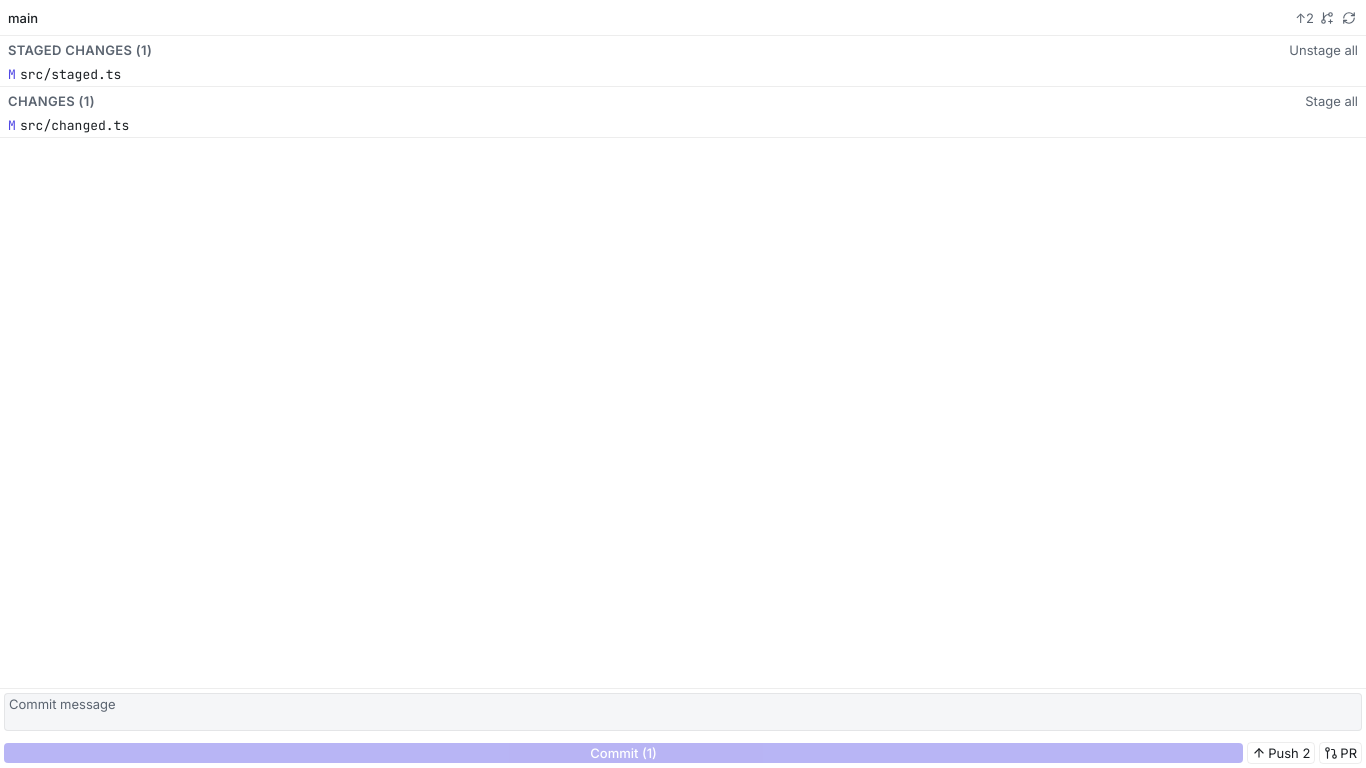
Test: SourceControlPanel (US-33.1) › opens a per-file diff preview on click (scoped fetch)
Click the button "src/staged.ts": click(71, 74) [20,67,1336,83]
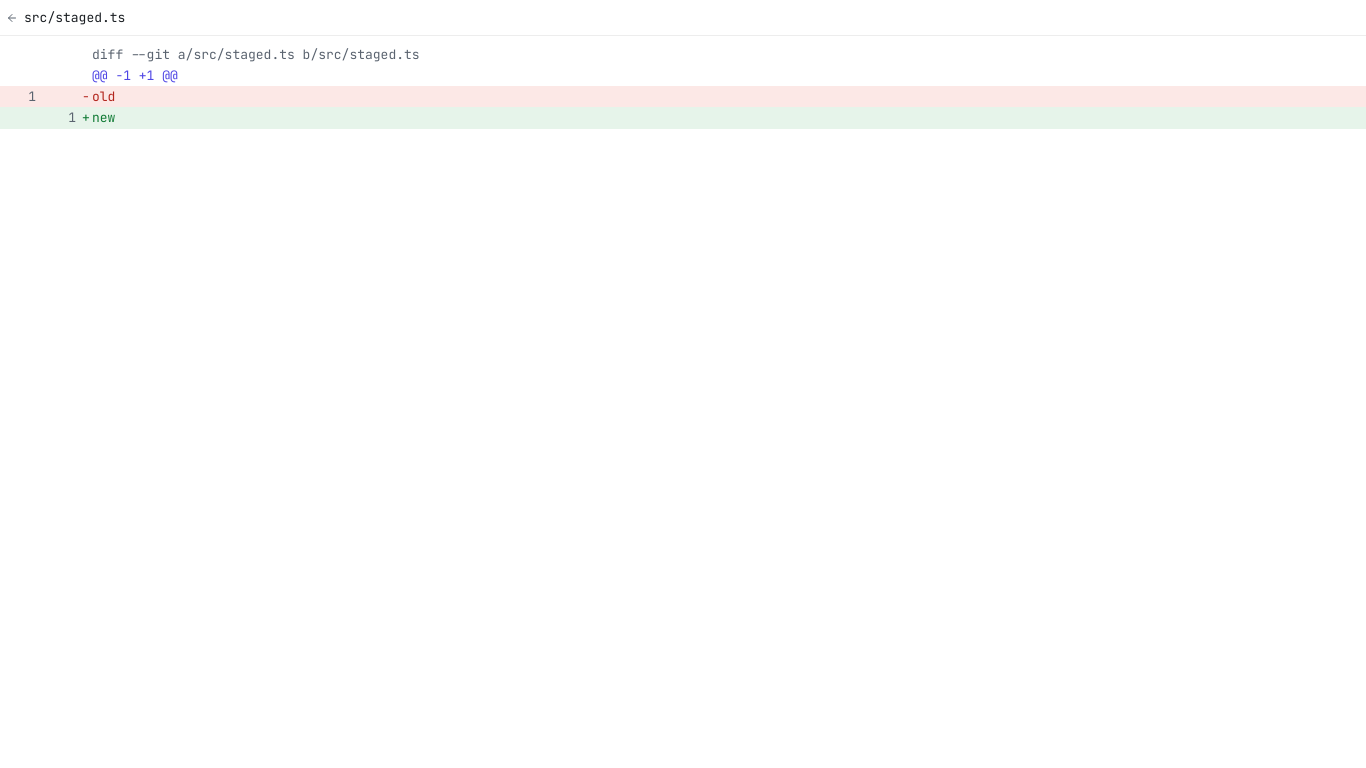
Check: the element with test id "sc-preview" is shown
